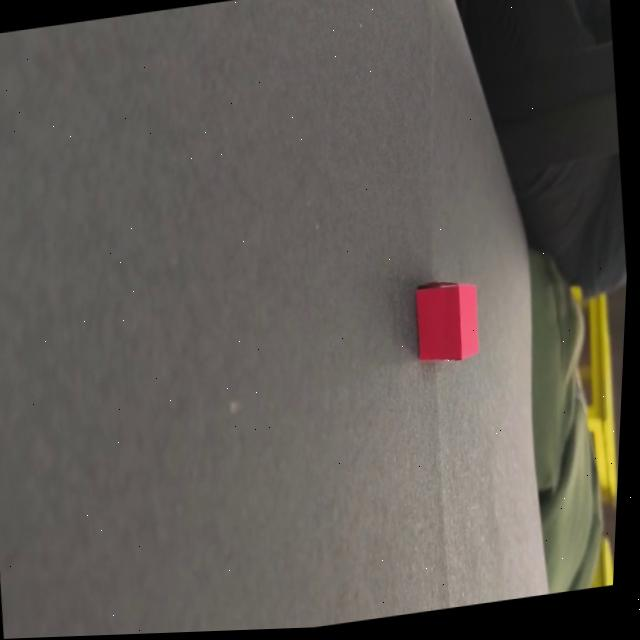red block: (411, 273, 486, 366)
